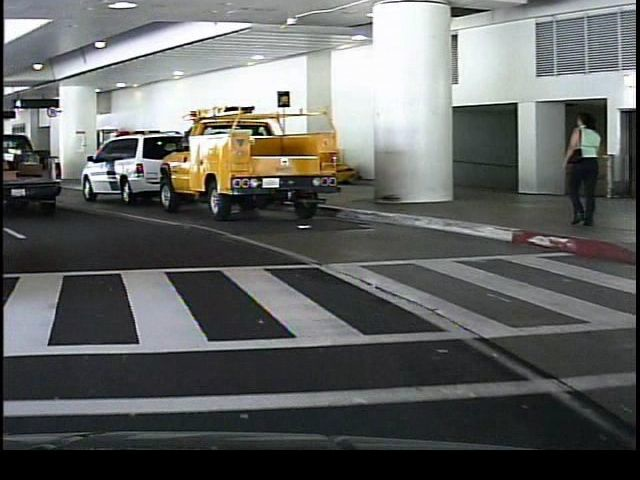person: (555, 110, 605, 231)
